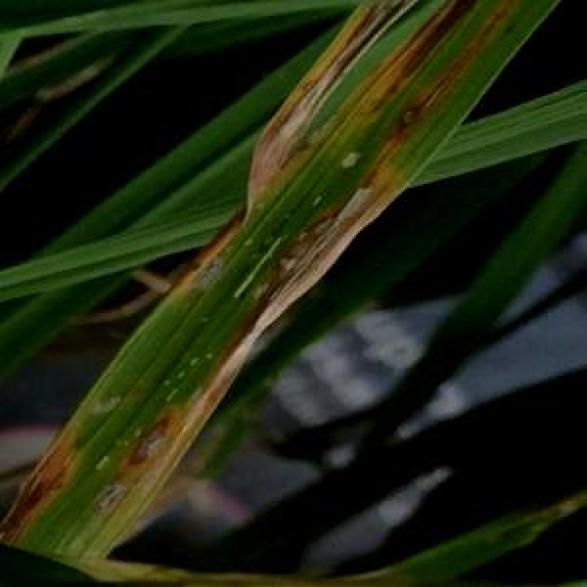Leaf_smut: (111, 411, 184, 466), (76, 472, 133, 508)
